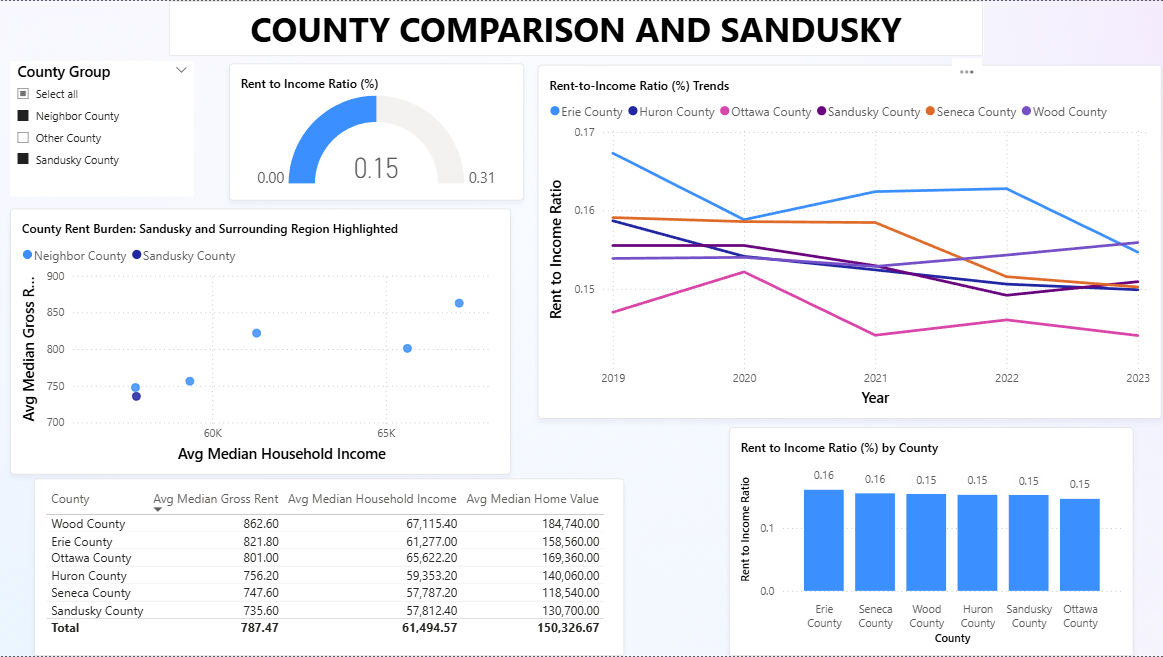

The page's visual inventory and layout, read from the dashboard file:
{"tool":"powerbi","page":{"name":"County Comparison & Sandusky","canvas":[1280,720],"ordinal":1},"visuals":[{"type":"scatterChart","title":"County Rent Burden: Sandusky and Surrounding Region Highlighted","fields":{"X":["Fact_Housing_Affordability.Avg Median Household Income"],"Y":["Fact_Housing_Affordability.Avg Median Gross Rent"],"Category":["Fact_Housing_Affordability.County"],"Series":["Fact_Housing_Affordability.County Group"]},"box":[12.2,227.8,549.8,291.6],"z":0},{"type":"lineClusteredColumnComboChart","title":"Rent to Income Ratio (%) by County","fields":{"Category":["Fact_Housing_Affordability.County"],"Y":["Fact_Housing_Affordability.Rent to Income Ratio"]},"box":[802,468,444,252],"z":1000},{"type":"slicer","fields":{"Values":["Fact_Housing_Affordability.County Group"]},"box":[12.2,65.3,202,148.8],"z":2000},{"type":"tableEx","fields":{"Values":["Fact_Housing_Affordability.County","Fact_Housing_Affordability.Avg Median Gross Rent","Fact_Housing_Affordability.Avg Median Household Income","Fact_Housing_Affordability.Avg Median Home Value"]},"box":[38,524,648,196],"z":3000},{"type":"lineChart","title":"Rent-to-Income Ratio (%) Trends","fields":{"Category":["Dim_Year.Year"],"Y":["Fact_Housing_Affordability.Rent to Income Ratio"],"Series":["Fact_Housing_Affordability.County"]},"box":[590.8,69.9,685,388.8],"z":4000},{"type":"gauge","title":"Rent to Income Ratio (%)","fields":{"Y":["Fact_Housing_Affordability.Rent to Income Ratio"]},"box":[252,68,324,150],"z":5000},{"type":"textbox","box":[186,0,894,60],"z":6000}]}

Visuals, with their boxes in screenshot pixels (x1, y1, x2, y2), scaled from the page's 1280x720 canvas onto the 1163x657 screenshot:
"County Rent Burden: Sandusky and Surrounding Region Highlighted" scatterChart: [11,208,511,474]
"Rent to Income Ratio (%) by County" lineClusteredColumnComboChart: [729,427,1132,656]
slicer - Fact_Housing_Affordability.County Group: [11,60,195,195]
tableEx - Fact_Housing_Affordability.County x Fact_Housing_Affordability.Avg Median Gross Rent: [35,478,623,656]
"Rent-to-Income Ratio (%) Trends" lineChart: [537,64,1159,419]
"Rent to Income Ratio (%)" gauge: [229,62,523,199]
textbox: [169,0,981,55]
